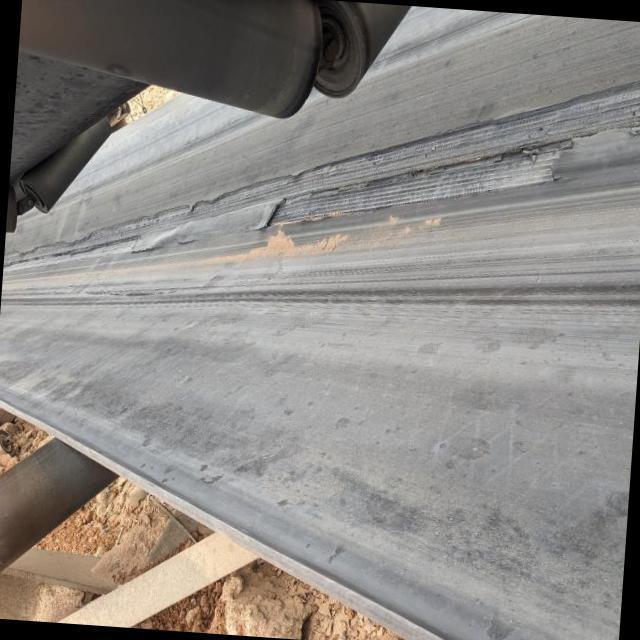Tear: (0, 77, 640, 270)
